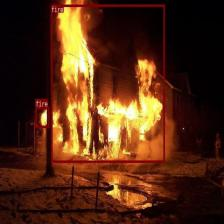fire: (51, 4, 165, 162), (36, 107, 50, 127)
